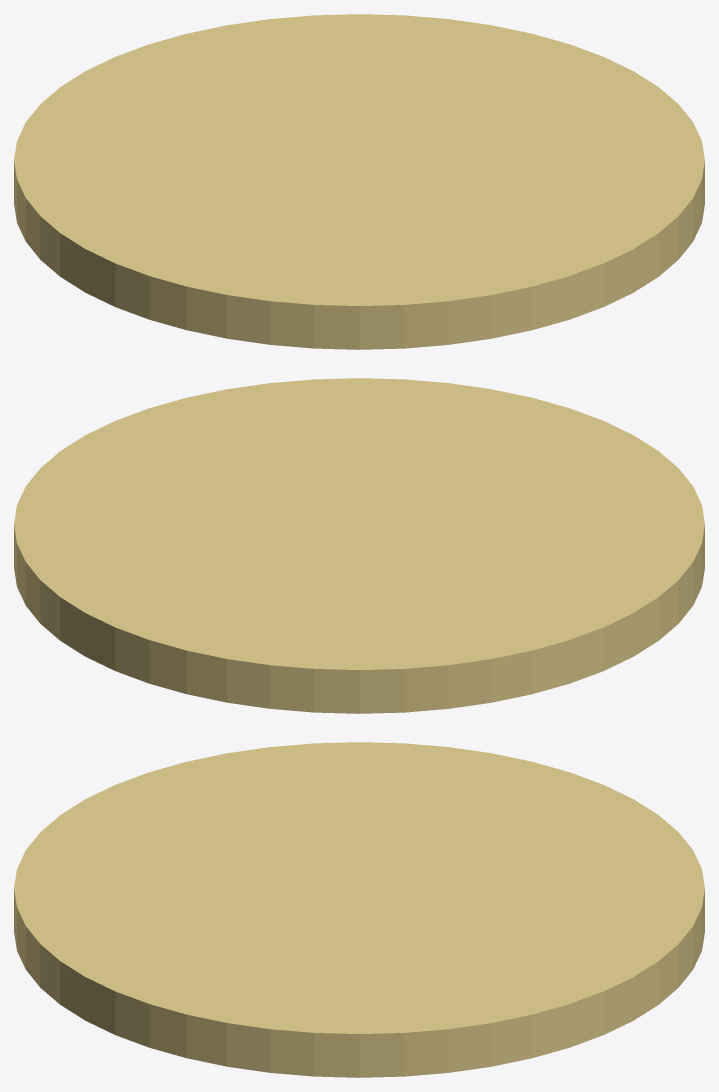
3 renders of one model, top to bottom at view 1: azimuth 30°, elevation 25°; view 2: azimuth 150°, elevation 25°; view 3: azimuth 270°, elevation 25°, orthographic.
Visible parts, largest first — view 1: part0; view 2: part0; view 3: part0.
Part boxes in pixels (bbox=[...]): part0: bbox=[14, 14, 704, 349]; part0: bbox=[14, 378, 704, 713]; part0: bbox=[14, 742, 704, 1077].
Bounding box in the file's own units: 2.15 × 0.15 × 2.15.
